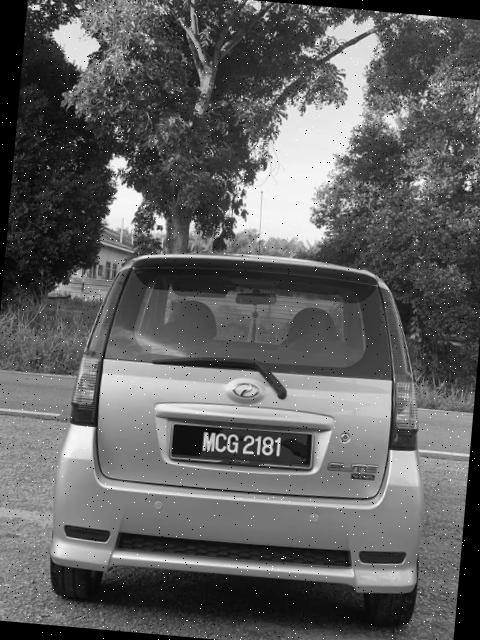License_Plate: (173, 425, 307, 468)
car: (47, 240, 442, 622)
